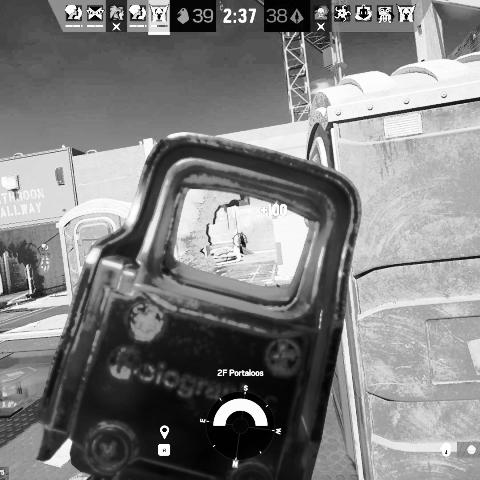Friend_label: (36, 243, 54, 259)
